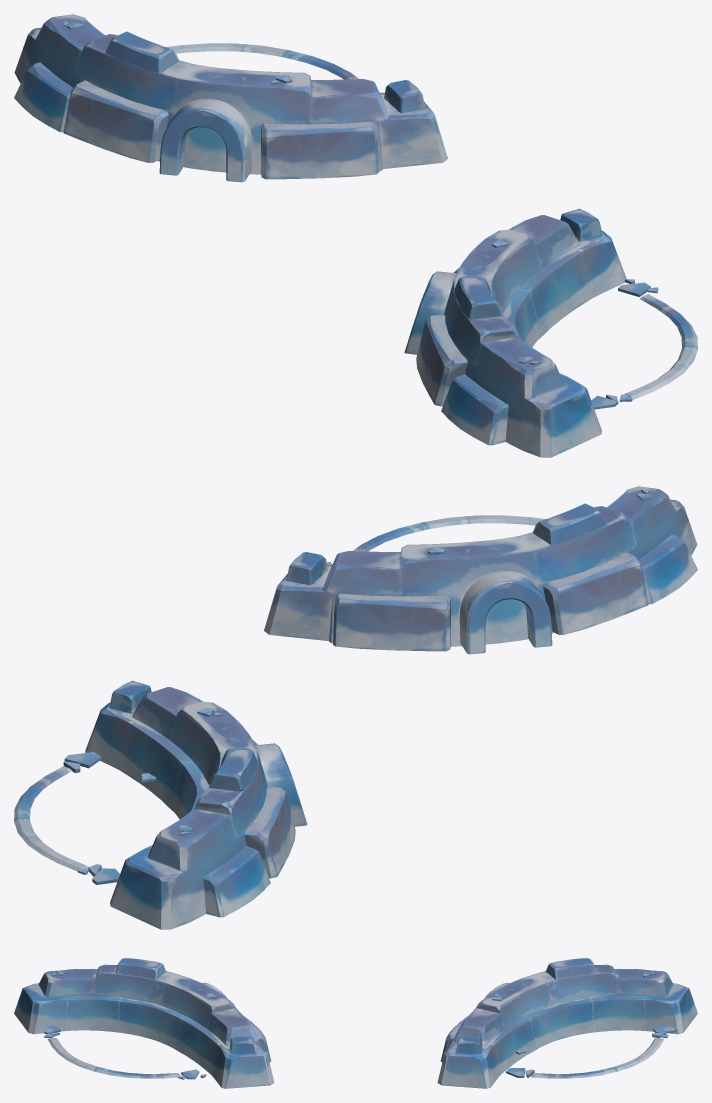
Rendered from pref_sm_beach_winter_icewall01_mirror_lv3.fbx.
The picture shows the model from 3 angles, top to bottom: view 1: azimuth 30°, elevation 25°; view 2: azimuth 150°, elevation 25°; view 3: azimuth 270°, elevation 25°; orthographic projection. The views are drawn at different scales.
Parts seen in each view (by area): view 1: pref_sm_beach_winter_icewall01_mirror_lv3; view 2: pref_sm_beach_winter_icewall01_mirror_lv3; view 3: pref_sm_beach_winter_icewall01_mirror_lv3.
Boxes of the visible parts, x1,y1,x2,y2 form: pref_sm_beach_winter_icewall01_mirror_lv3: (14, 14, 697, 457); pref_sm_beach_winter_icewall01_mirror_lv3: (14, 486, 697, 929); pref_sm_beach_winter_icewall01_mirror_lv3: (14, 958, 697, 1088).
Size of the model in its own units: 8.23 by 2.57 by 27.17.
